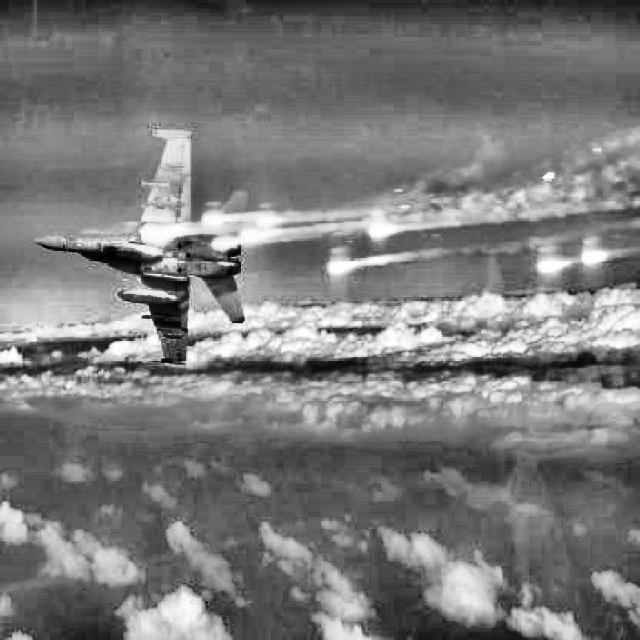F18: (33, 128, 249, 366)
